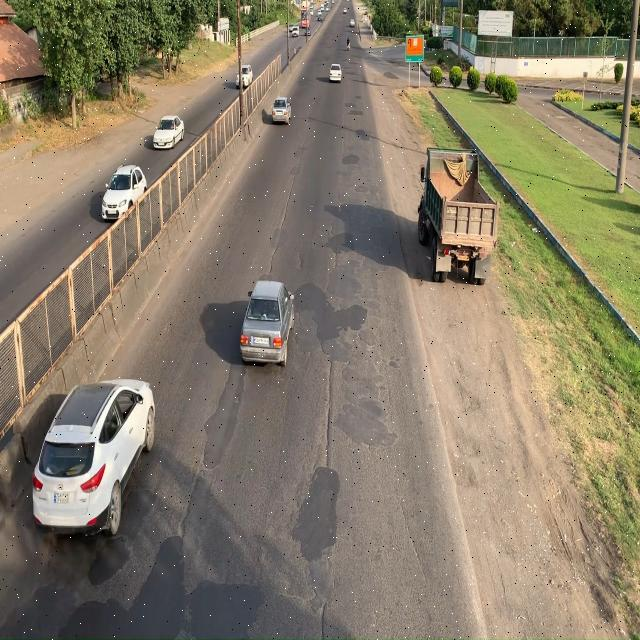Truck: (411, 150, 494, 290)
cars: (34, 378, 154, 538), (241, 281, 294, 364), (103, 166, 146, 220), (153, 114, 184, 148)
